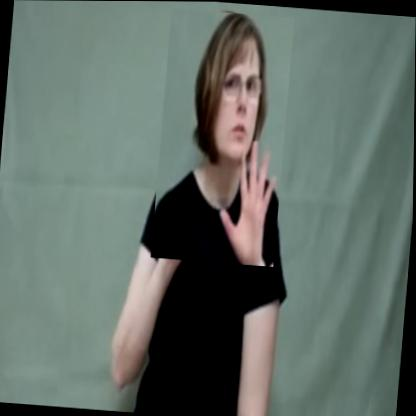Talk: (151, 8, 294, 267)
